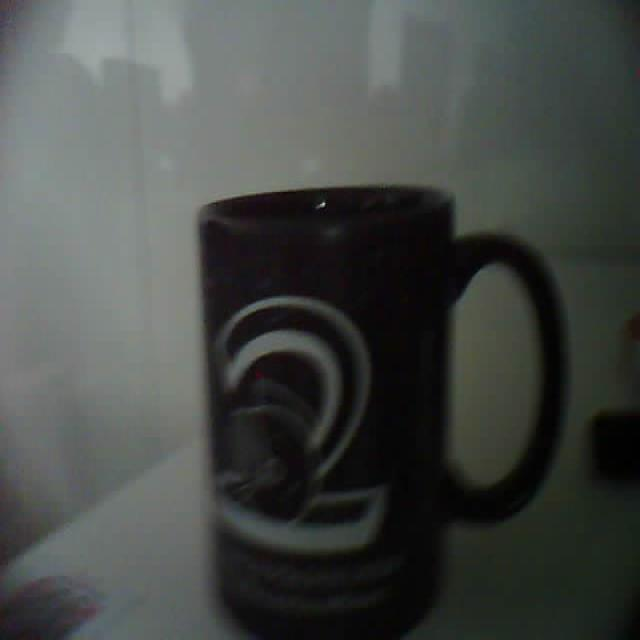caneca: (196, 187, 566, 639)
